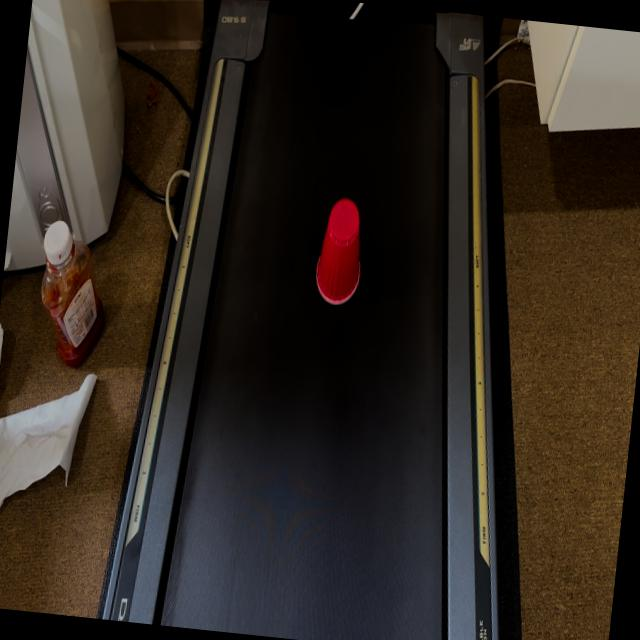Recycle: (311, 194, 367, 308)
